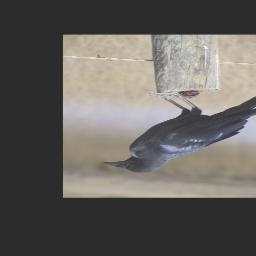Crow: (101, 90, 256, 174)
